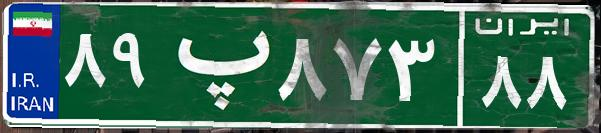3: (385, 28, 445, 110)
7: (330, 28, 385, 110)
8: (273, 28, 330, 110), (57, 26, 110, 107), (475, 38, 525, 113), (525, 38, 570, 115)
9: (110, 28, 158, 105)
پ: (158, 15, 273, 115)
